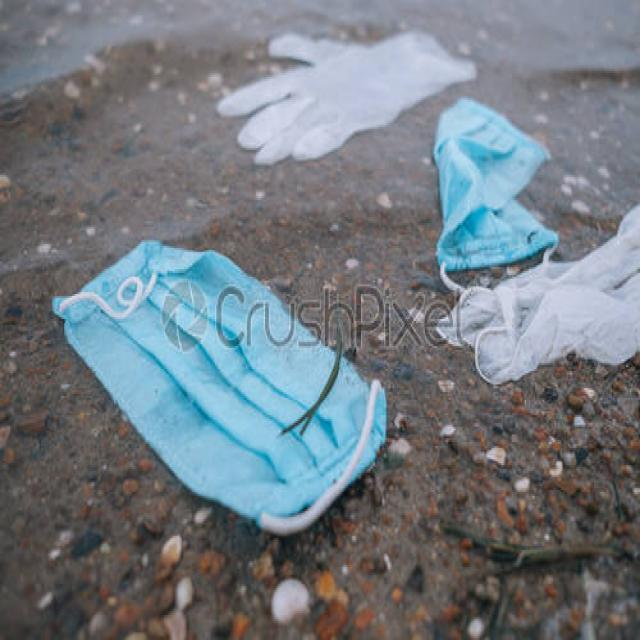non-organic waste: (51, 229, 393, 542), (434, 84, 557, 300)
